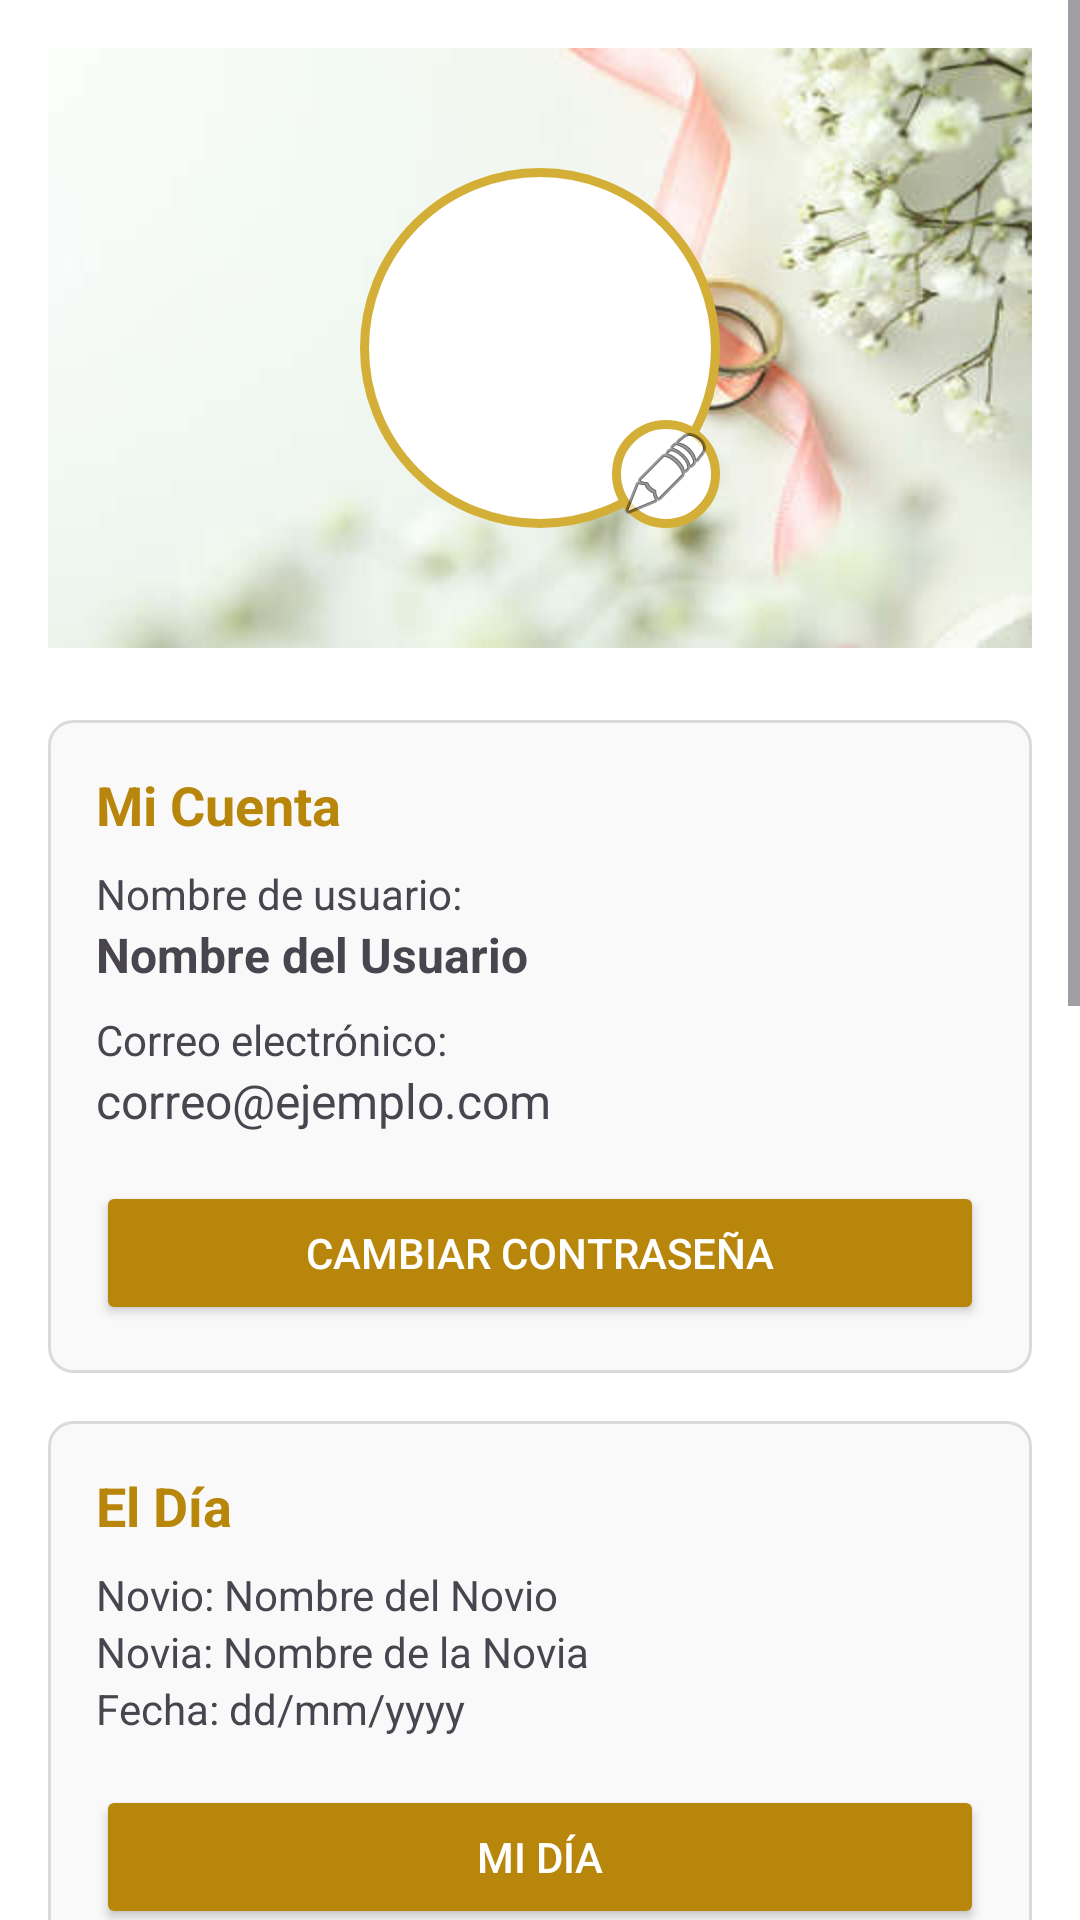

Icons on this 1080*1920 Android screen, each with the point to tap as (x=x, y=y):
Cambiar foto de perfil: (x=666, y=474)
